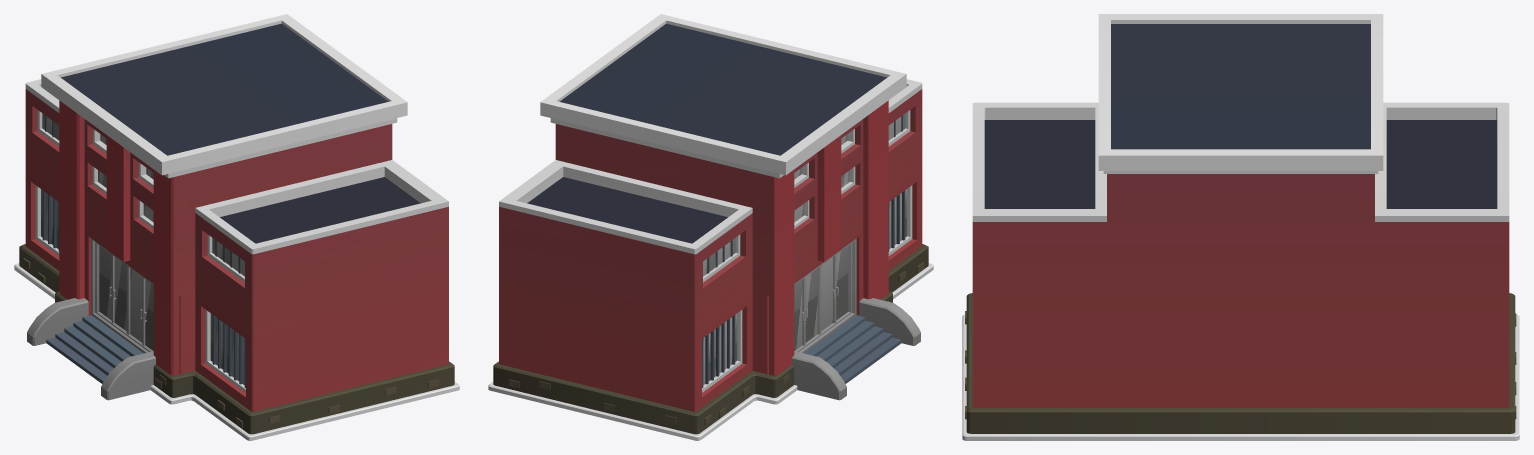
File: Building_14_H.fbx
The picture shows the model from 3 angles, left to right: view 1: azimuth 30°, elevation 25°; view 2: azimuth 150°, elevation 25°; view 3: azimuth 270°, elevation 25°; orthographic projection. The views are drawn at different scales.
Visible parts, largest first — view 1: Building_14_H; view 2: Building_14_H; view 3: Building_14_H.
Boxes of the visible parts, bbox=[...] form: Building_14_H: bbox=[14, 14, 459, 440]; Building_14_H: bbox=[488, 14, 933, 440]; Building_14_H: bbox=[962, 14, 1519, 440].
Size of the model in its own units: 908 by 755 by 1325.
